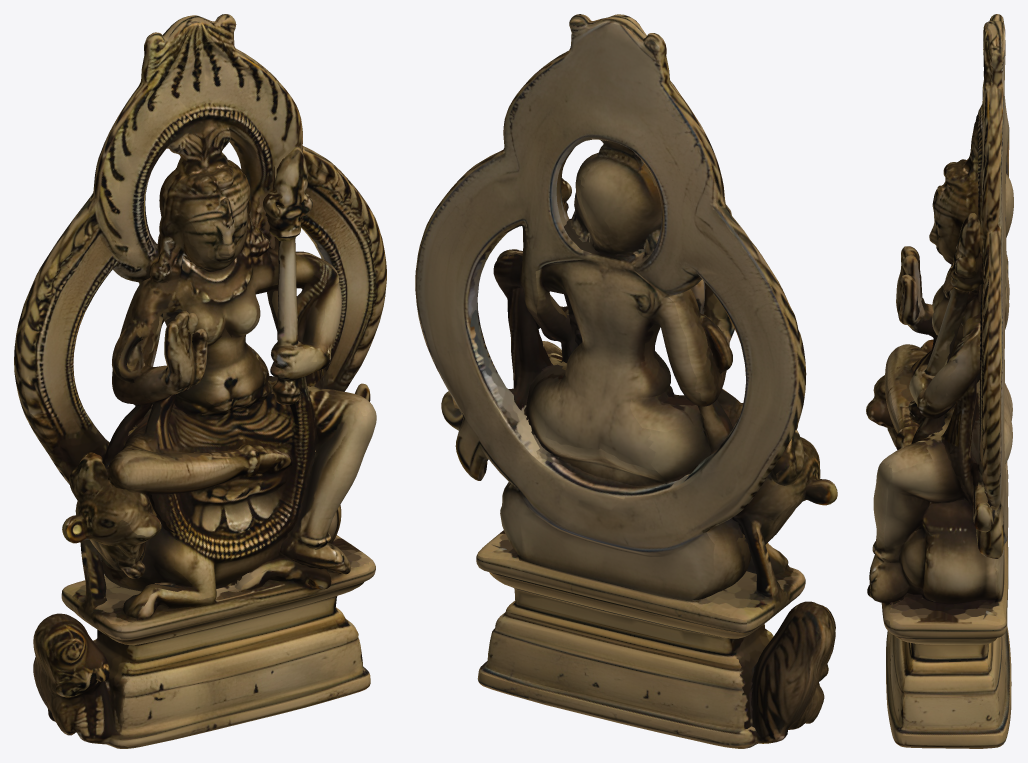
The picture shows the model from 3 angles, left to right: view 1: azimuth 30°, elevation 25°; view 2: azimuth 150°, elevation 25°; view 3: azimuth 270°, elevation 25°; orthographic projection. The views are drawn at different scales.
Visible parts, largest first — view 1: textured_mesh; view 2: textured_mesh; view 3: textured_mesh.
Part boxes in pixels (left/top/right/bottom): textured_mesh: left=14, top=14, right=386, bottom=748; textured_mesh: left=415, top=14, right=837, bottom=748; textured_mesh: left=866, top=14, right=1013, bottom=748.
Bounding box in the file's own units: 1.16 × 1.98 × 0.402.
1 material, 1 textured.
